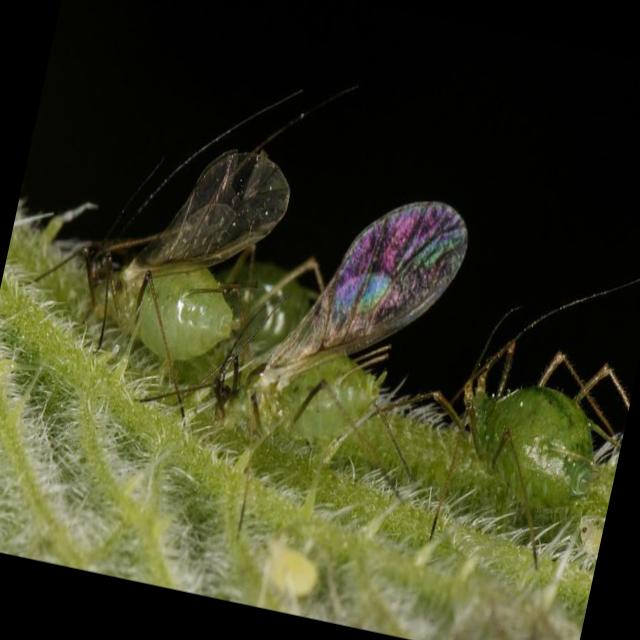Aphids: (374, 304, 629, 572), (76, 164, 272, 394)
